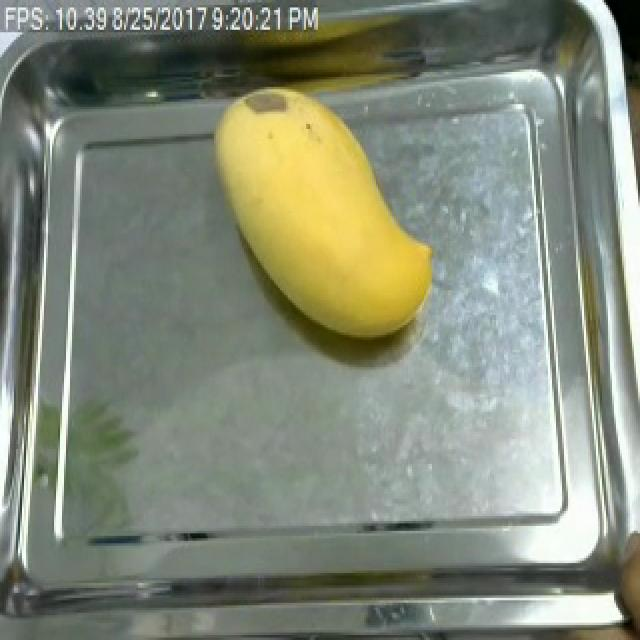fruit: (196, 72, 448, 350)
